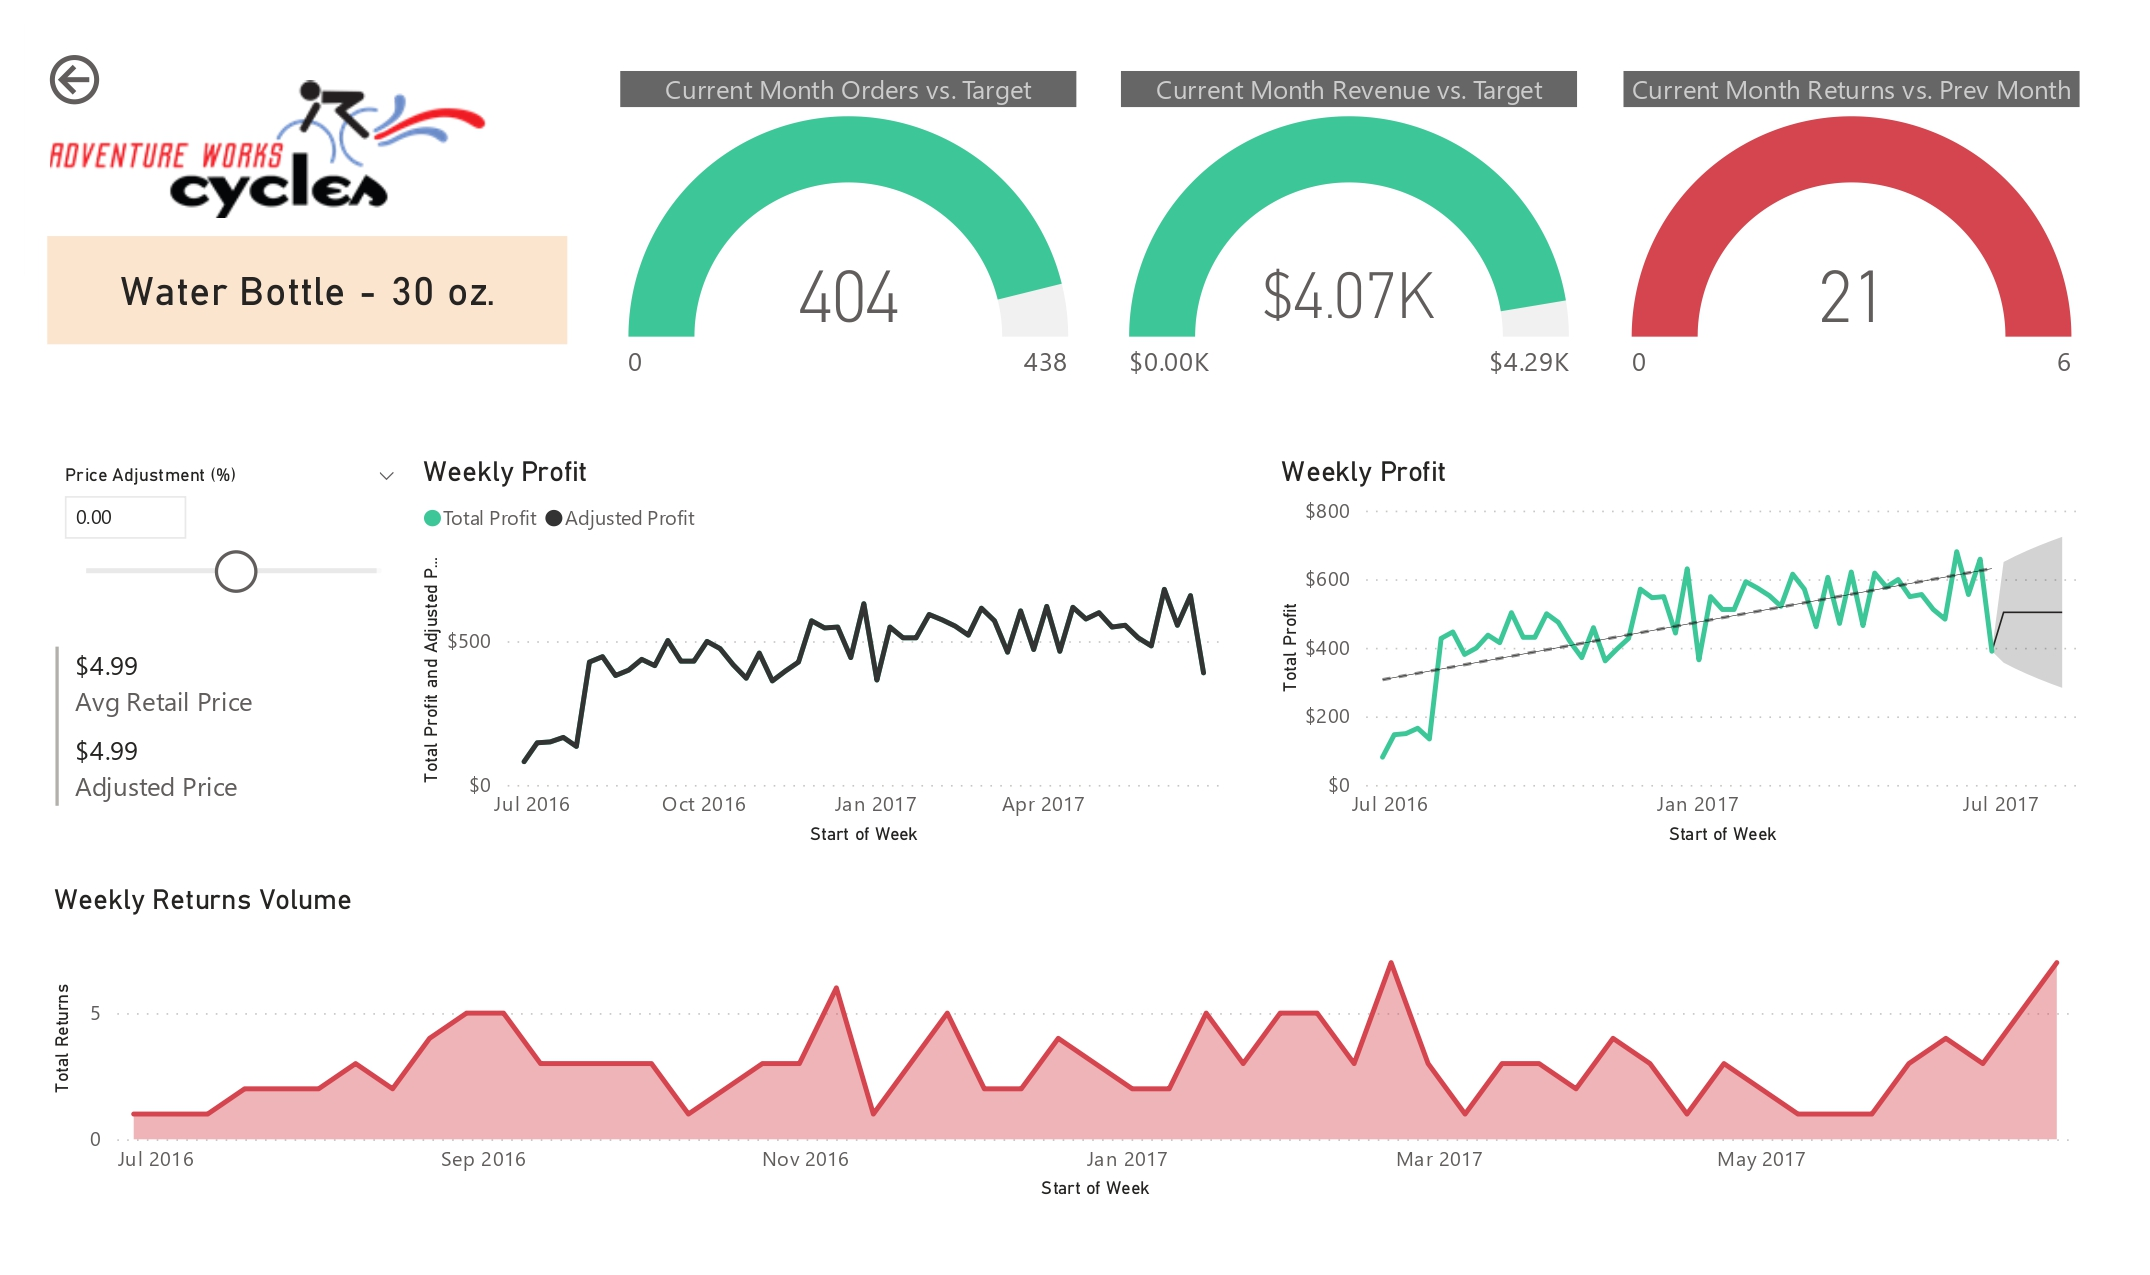

What the dashboard file says about the page in this screenshot:
{"tool":"powerbi","page":{"name":"Product Detail","canvas":[1280,720],"ordinal":1},"visuals":[{"type":"lineChart","title":"Weekly Profit","fields":{"Y":["AW_Sales.Total Profit"],"Category":["AW_Calendar_Lookup.Start of Week"]},"box":[746.3,236.8,520,248.2],"z":0},{"type":"areaChart","title":"Weekly Return Volume","fields":{"Category":["AW_Calendar_Lookup.Start of Week"],"Y":["AW_Returns.Total Returns"]},"box":[42.3,521.6,1223.9,185.3],"z":1000},{"type":"lineChart","title":"Weekly Profit","fields":{"Y":["AW_Sales.Total Profit","AW_Sales.Adjusted Profit"],"Category":["AW_Calendar_Lookup.Start of Week"]},"box":[201.3,235.6,506.1,248.2],"z":2000},{"type":"gauge","title":"Current Month Orders vs. Target","fields":{"Y":["AW_Sales.Total Orders"],"MaxValue":["AW_Sales.Order Target"]},"box":[418.7,24.9,231.3,178],"z":3000},{"type":"gauge","title":"Current Month Revenue vs. Target","fields":{"Y":["AW_Sales.Total Revenue"],"MaxValue":["AW_Sales.Revenue Target"]},"box":[689.3,24.9,231.1,177.3],"z":4000},{"type":"gauge","title":"Current Month Returns vs. Prev Month","fields":{"Y":["AW_Returns.Total Returns"],"MaxValue":["AW_Returns.Prev Month Returns"]},"box":[959.7,24.9,231.1,177.3],"z":5000},{"type":"card","fields":{"Values":["Min(AW_Product_Lookup.ProductName)"]},"box":[25.2,122.4,354.6,64.1],"z":6000},{"type":"slicer","fields":{"Values":["Price Adjustment (%).Price Adjustment (%)"]},"box":[41.2,235.6,159,109.8],"z":7000},{"type":"multiRowCard","fields":{"Values":["AW_Product_Lookup.Avg Retail Price","AW_Product_Lookup.Adjusted Price"]},"box":[48.3,351.2,152.1,106.4],"z":8000},{"type":"basicShape","box":[656.6,233.4,122.4,258.5],"z":9000},{"type":"basicShape","box":[393,196.7,870.7,35.5],"z":10000},{"type":"basicShape","box":[17.2,485.9,1246.8,35.5],"z":11000},{"type":"image","box":[73,14,240.2,80.1],"z":12000},{"type":"basicShape","box":[0,0,100,40],"z":13000}]}

Visuals, with their boxes on the page's 1280x720 design canvas (x1, y1, x2, y2). These are canvas units, not pixel positions in the 2150x1275 screenshot, which may show the page scaled, cropped or inside an application window:
"Weekly Profit" lineChart: 746/237/1266/485
"Weekly Return Volume" areaChart: 42/522/1266/707
"Weekly Profit" lineChart: 201/236/707/484
"Current Month Orders vs. Target" gauge: 419/25/650/203
"Current Month Revenue vs. Target" gauge: 689/25/920/202
"Current Month Returns vs. Prev Month" gauge: 960/25/1191/202
card - Min(AW_Product_Lookup.ProductName): 25/122/380/186
slicer - Price Adjustment (%).Price Adjustment (%): 41/236/200/345
multiRowCard - AW_Product_Lookup.Avg Retail Price x AW_Product_Lookup.Adjusted Price: 48/351/200/458
basicShape: 657/233/779/492
basicShape: 393/197/1264/232
basicShape: 17/486/1264/521
image: 73/14/313/94
basicShape: 0/0/100/40
